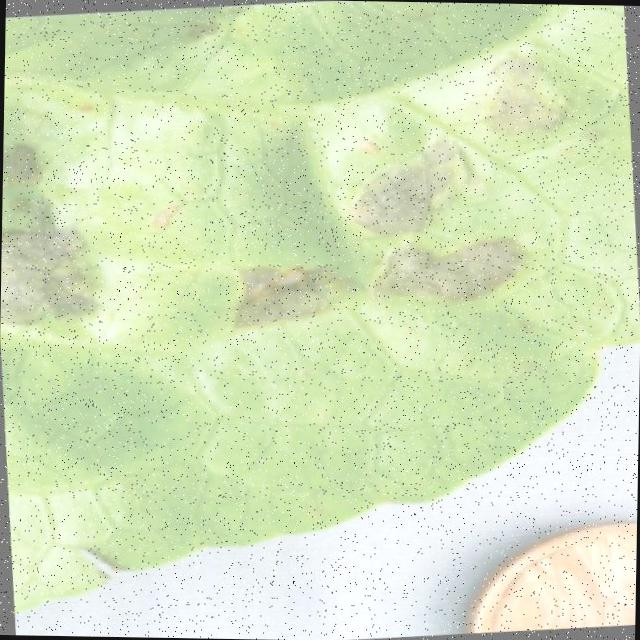Bacterial: (0, 34, 636, 377)
